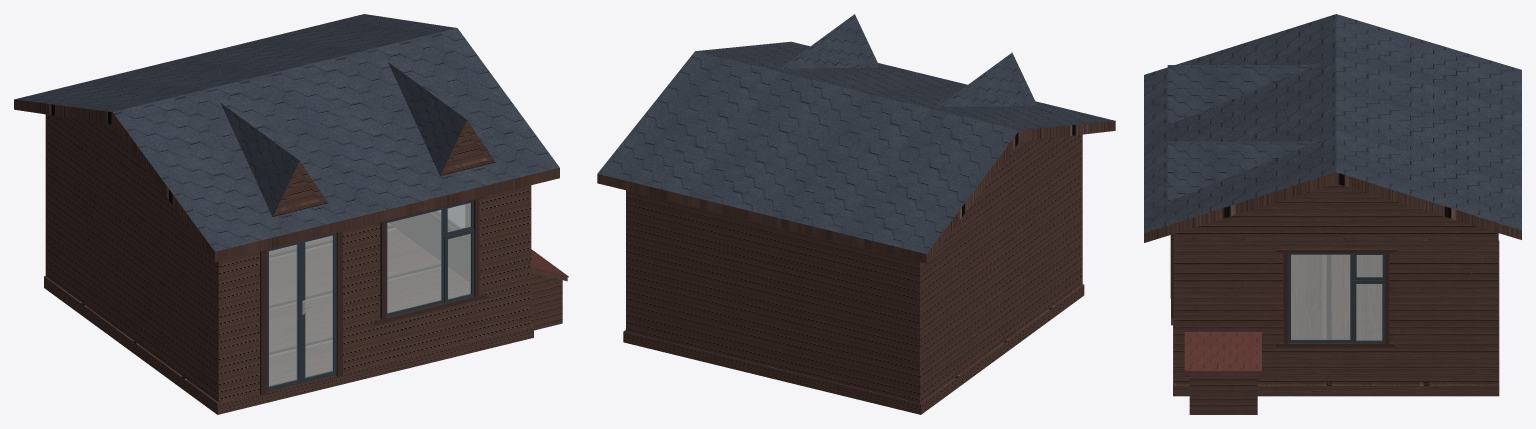
Rendered from 体验房2.fbx.
3 renders of one model, left to right at view 1: azimuth 30°, elevation 25°; view 2: azimuth 150°, elevation 25°; view 3: azimuth 270°, elevation 25°, orthographic. The views are drawn at different scales.
Parts seen in each view (by area): view 1: 对象704, Box780, 对象708, Box781, Box788, 对象710, 对象709, Line156, 图形059, 对象715, Box772, 图形061 (+5 smaller); view 2: Box780, 对象704, Box781; view 3: 对象704, Box780, 对象708, Box785, Box781, 对象705, Box772, 对象711, Box784, 对象714, 对象713, Box783.
Boxes of the visible parts, box(x1,y1,x2,y2) form: 对象704: box(14, 14, 559, 262); Box780: box(45, 114, 531, 402); 对象708: box(219, 223, 531, 402); Box781: box(44, 276, 533, 414); Box788: box(387, 210, 441, 312); 对象710: box(305, 235, 333, 377); 对象709: box(269, 244, 297, 386); Line156: box(273, 120, 495, 217); 图形059: box(260, 231, 342, 395); 对象715: box(373, 196, 486, 324); Box772: box(531, 273, 562, 330); 图形061: box(301, 233, 336, 382); Box780: box(626, 134, 1082, 403); 对象704: box(597, 14, 1115, 263); Box781: box(623, 284, 1084, 414); 对象704: box(1144, 14, 1521, 242); Box780: box(1173, 183, 1498, 384); 对象708: box(1173, 255, 1498, 384); Box785: box(1291, 254, 1350, 339); Box781: box(1173, 240, 1499, 396); 对象705: box(1184, 332, 1261, 372); Box772: box(1189, 375, 1257, 414); 对象711: box(1275, 248, 1397, 347); Box784: box(1356, 284, 1382, 340); 对象714: box(1288, 253, 1353, 342); 对象713: box(1353, 280, 1384, 343); Box783: box(1356, 255, 1382, 277).
Bounding box in the file's own units: 30.19 × 18.81 × 27.97.
